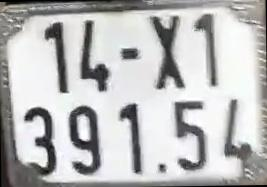-: (118, 47, 141, 63)
.: (158, 160, 167, 173)
1: (44, 20, 71, 97), (118, 104, 142, 173), (196, 16, 219, 86)
3: (25, 105, 58, 178)
4: (79, 20, 111, 92), (223, 99, 251, 164)
5: (174, 99, 209, 172)
9: (68, 104, 104, 175)
X: (150, 15, 187, 91)
